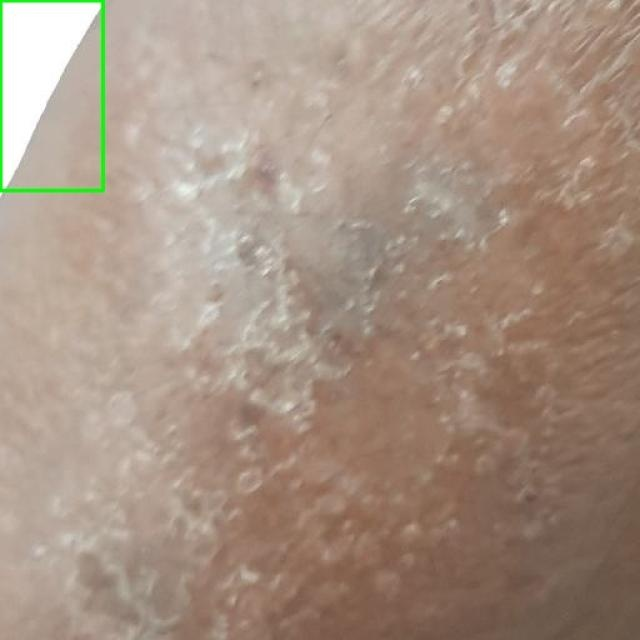Eczema: (0, 0, 102, 190)
